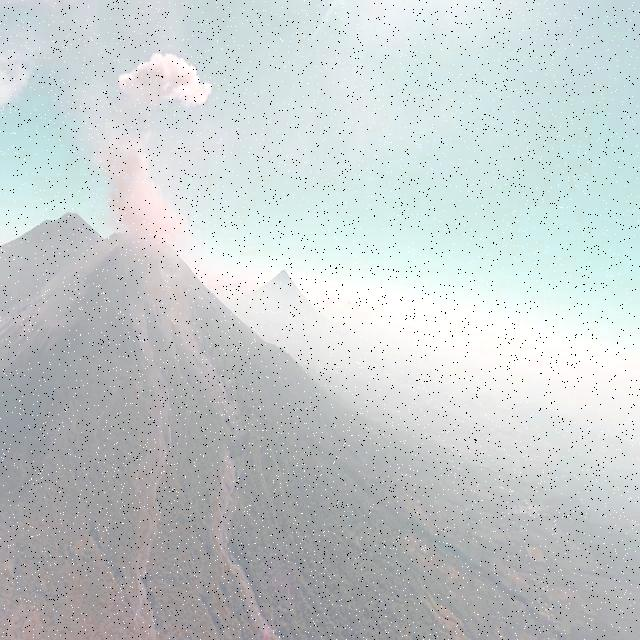Plume: (90, 124, 192, 250), (117, 46, 218, 115), (0, 17, 35, 110)
